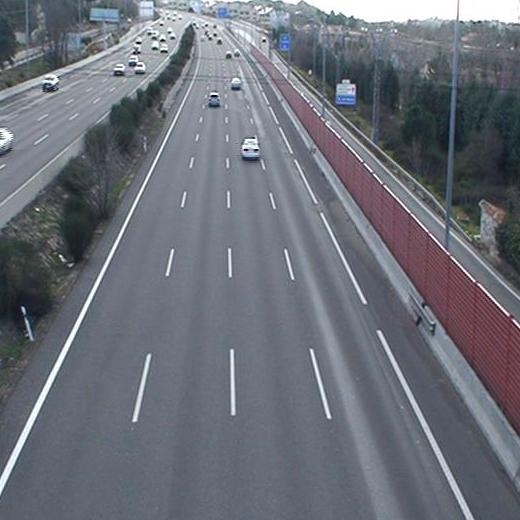car: (240, 137, 263, 159), (207, 92, 221, 107), (229, 77, 241, 89)
